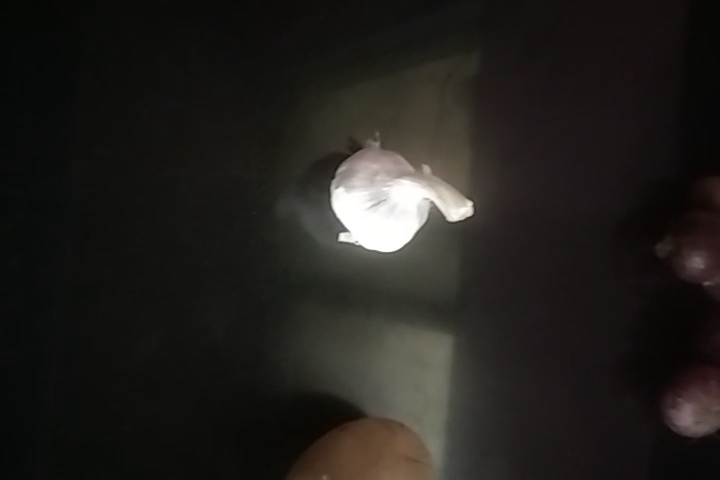garlic: (333, 143, 468, 264)
onion: (651, 211, 718, 282), (667, 362, 720, 438)
potato: (285, 407, 446, 480)
